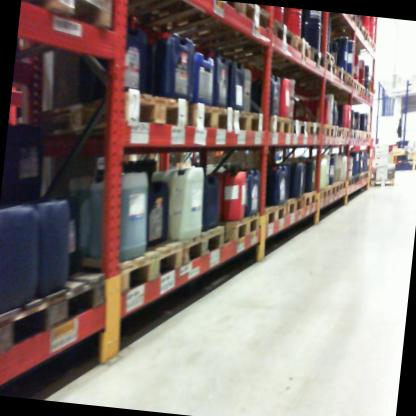pallet: (28, 76, 198, 174), (0, 257, 111, 377), (60, 227, 186, 316), (151, 0, 274, 61), (123, 0, 239, 49), (193, 13, 302, 63), (19, 0, 126, 34), (178, 218, 227, 278), (187, 93, 238, 139), (277, 44, 330, 86), (218, 204, 263, 252), (334, 33, 380, 65), (255, 106, 295, 139), (231, 106, 268, 138), (257, 199, 287, 231), (291, 30, 315, 66), (335, 88, 373, 109), (296, 186, 320, 217), (286, 116, 312, 141), (332, 27, 372, 42), (284, 189, 305, 216), (371, 170, 396, 192), (325, 12, 357, 26), (321, 62, 338, 84), (336, 63, 350, 89), (314, 183, 332, 203), (307, 117, 323, 139), (318, 119, 336, 137), (333, 123, 345, 146), (344, 69, 356, 90), (356, 16, 370, 34), (327, 180, 340, 199), (349, 76, 360, 98), (324, 49, 339, 63), (342, 174, 354, 189), (342, 124, 351, 141), (359, 80, 368, 96), (338, 178, 347, 191), (363, 86, 369, 98)
